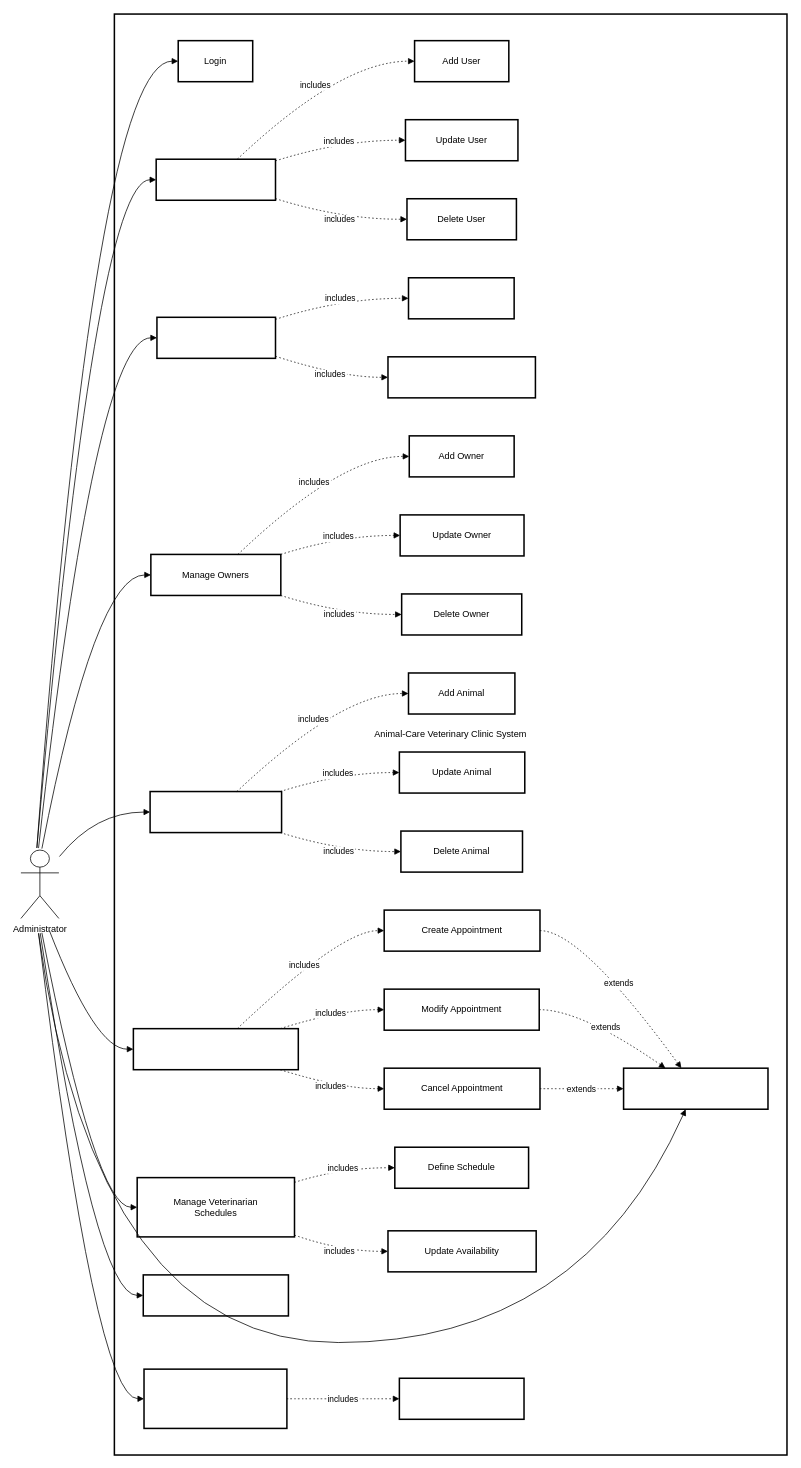
The diagram is 801 pixels wide and 1468 high, and some of its shapes have lost their labels. The box of each missing label's shape, as (x1, y1, x2, y2) in pixels:
Assign Role: (407, 277, 515, 319)
Generate Monthly Reports: (143, 1368, 287, 1429)
Manage Animals: (149, 790, 282, 833)
Manage Appointments: (132, 1028, 299, 1070)
Manage Roles: (156, 316, 276, 359)
Manage Users: (155, 158, 276, 201)
Modify Permissions: (387, 356, 536, 398)
Send Notifications: (622, 1067, 768, 1110)
View Daily Agenda: (142, 1274, 289, 1316)
View Statistics: (398, 1377, 524, 1420)
